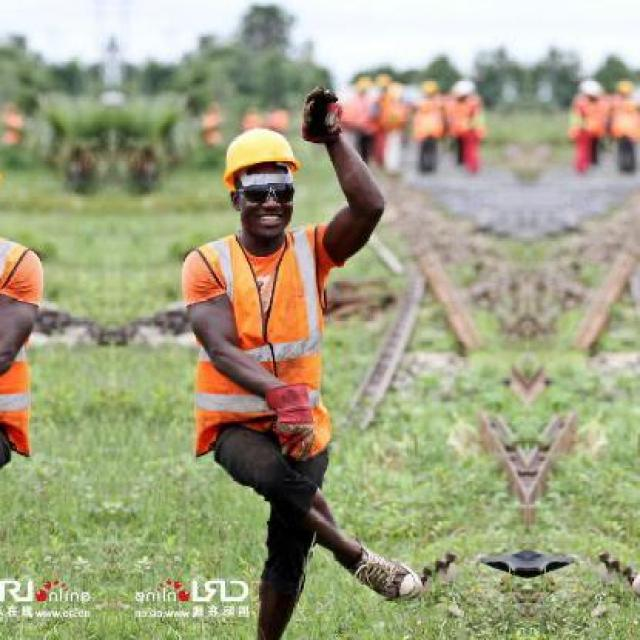Reflective-Jacket: (171, 222, 347, 429), (0, 221, 48, 457)
Safety-Helmet: (213, 117, 310, 191), (449, 74, 481, 101)
